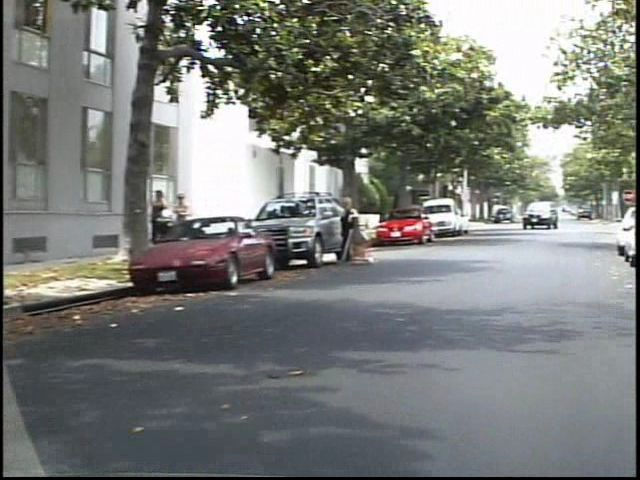person: (344, 193, 376, 272), (159, 185, 186, 253), (184, 188, 208, 251)
